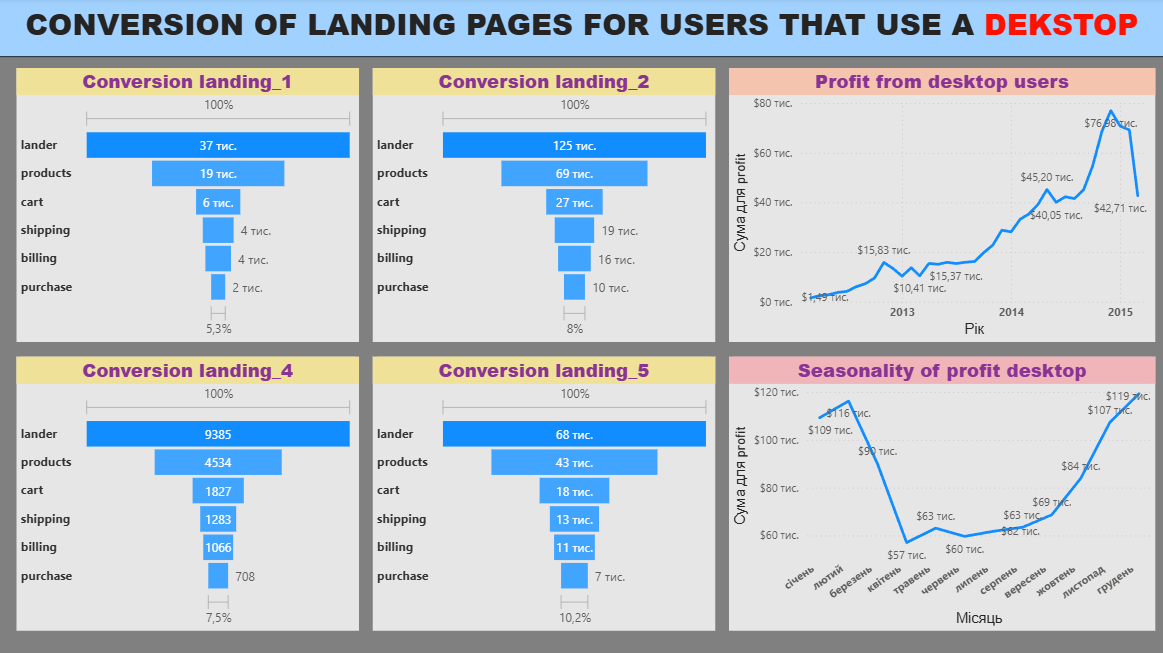

The page's visual inventory and layout, read from the dashboard file:
{"tool":"powerbi","page":{"name":"Landing dekstop","canvas":[1280,720],"ordinal":2},"visuals":[{"type":"funnel","title":"Conversion landing_1","fields":{"Y":["Sum(Sheet1.lander)","Sum(Sheet1./products)","Sum(Sheet1./cart)","Sum(Sheet1./shipping)","Sum(Sheet1.billing)","Sum(Sheet1.purchase)"]},"box":[19.2,76.8,376,300.5],"z":0},{"type":"funnel","title":"Conversion landing_2","fields":{"Y":["Sum(Sheet1.lander)","Sum(Sheet1./products)","Sum(Sheet1./cart)","Sum(Sheet1./shipping)","Sum(Sheet1.billing)","Sum(Sheet1.purchase)"]},"box":[410.3,76.8,376,300.5],"z":1000},{"type":"funnel","title":"Conversion landing_4","fields":{"Y":["Sum(Sheet1.lander)","Sum(Sheet1./products)","Sum(Sheet1./cart)","Sum(Sheet1./shipping)","Sum(Sheet1.billing)","Sum(Sheet1.purchase)"]},"box":[19.2,393.8,376,300.5],"z":2000},{"type":"funnel","title":"Conversion landing_5","fields":{"Y":["Sum(Sheet1.lander)","Sum(Sheet1./products)","Sum(Sheet1./cart)","Sum(Sheet1./shipping)","Sum(Sheet1.billing)","Sum(Sheet1.purchase)"]},"box":[410.3,393.8,376,300.5],"z":3000},{"type":"textbox","box":[0,0,1280.3,64.5],"z":4000},{"type":"lineChart","title":"Seasonality of profit desktop","fields":{"Category":["orders_profit_usd.created_at_order.Варіація.Ієрархія дат.Місяць","orders_profit_usd.created_at_order.Варіація.Ієрархія дат.День"],"Y":["Sum(orders_profit_usd.profit)"]},"box":[801.4,393.8,467.9,300.5],"z":5000},{"type":"lineChart","title":"Profit from desktop users","fields":{"Category":["orders_profit_usd.created_at_order.Варіація.Ієрархія дат.Рік","orders_profit_usd.created_at_order.Варіація.Ієрархія дат.Місяць"],"Y":["Sum(orders_profit_usd.profit)"]},"box":[801.4,76.8,467.9,300.5],"z":6000}]}

Visuals, with their boxes in screenshot pixels (x1, y1, x2, y2), scaled from the page's 1280x720 canvas onto the 1163x653 screenshot:
"Conversion landing_1" funnel: [left=17, top=70, right=359, bottom=342]
"Conversion landing_2" funnel: [left=373, top=70, right=714, bottom=342]
"Conversion landing_4" funnel: [left=17, top=357, right=359, bottom=630]
"Conversion landing_5" funnel: [left=373, top=357, right=714, bottom=630]
textbox: [left=0, top=0, right=1162, bottom=58]
"Seasonality of profit desktop" lineChart: [left=728, top=357, right=1153, bottom=630]
"Profit from desktop users" lineChart: [left=728, top=70, right=1153, bottom=342]
